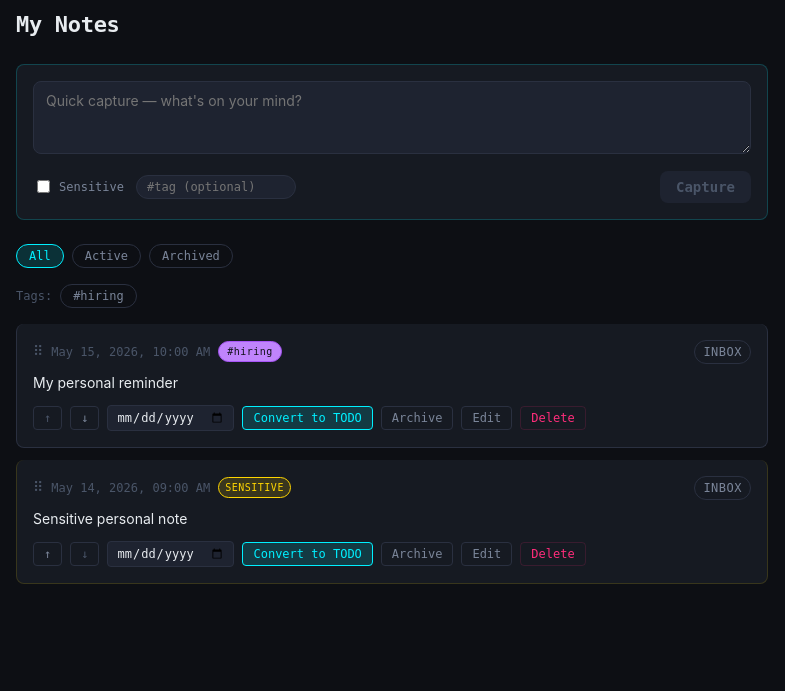
MyNotesPage › should exit edit mode without saving on cancel
Check: the element with test id "my-note-card-note-1" is shown, box [16,324,768,448]
Click the button with test id "my-note-edit-btn" below "May 15, 2026, 10:00 AM". click: [487, 418]
box: [461,406,512,430]
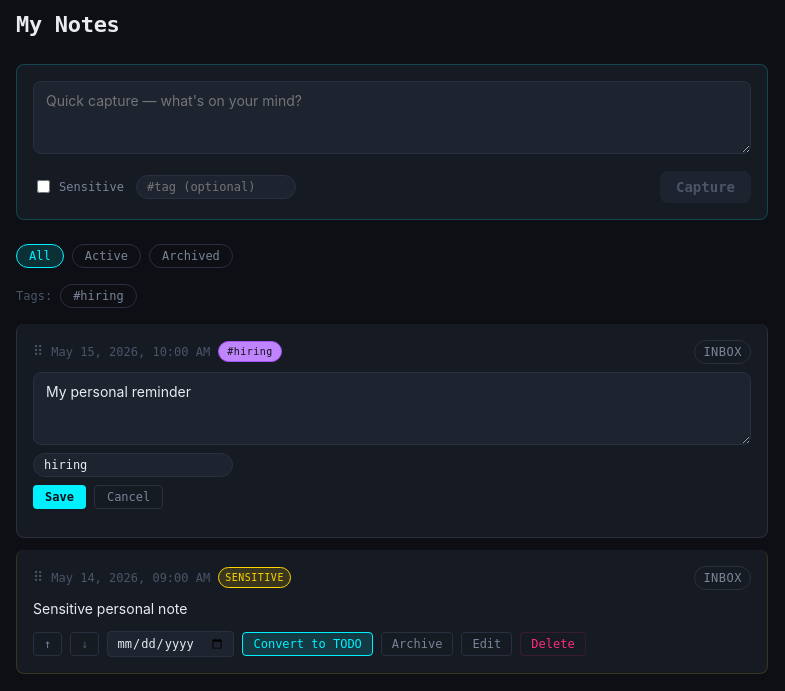
Replace the text in the text box with test id "my-note-edit-text-input" with "Discarded change". click: [392, 408]
box: [33,372,751,445]
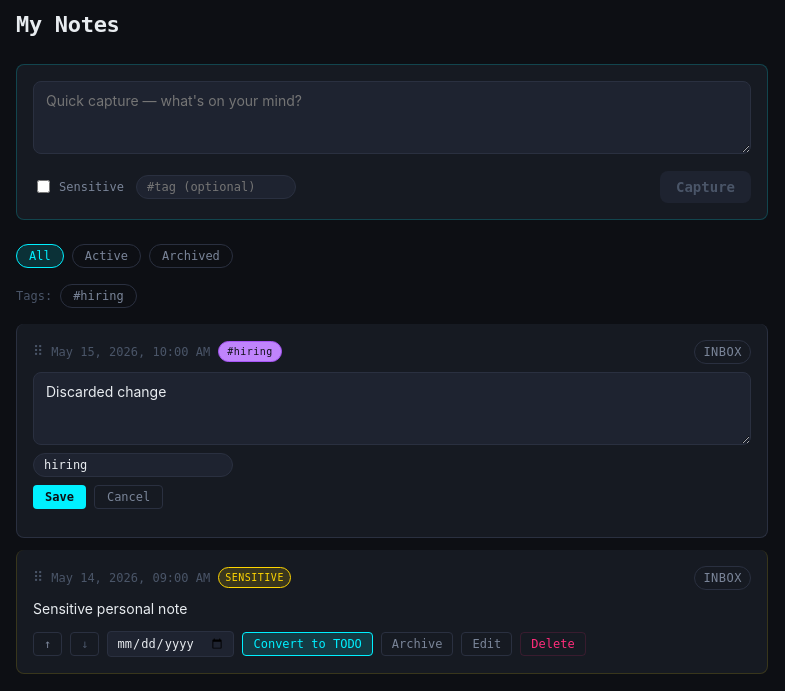
Click the button with test id "my-note-edit-cancel-btn". click: [129, 497]
box: [94,485,163,509]
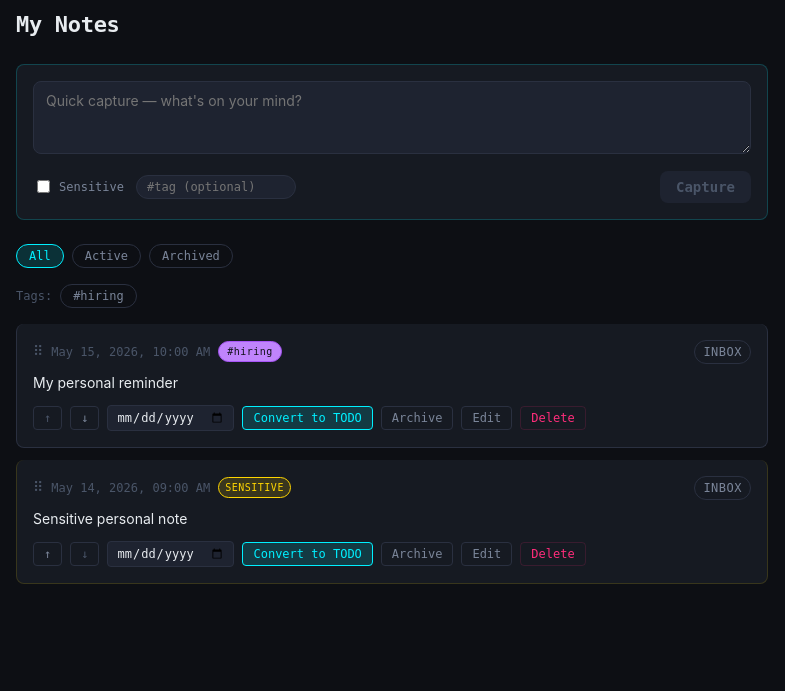
Check: the text box with test id "my-note-edit-text-input" is gone
Check: the text with test id "my-note-text" reads "My personal reminder", box [33,374,178,391]
